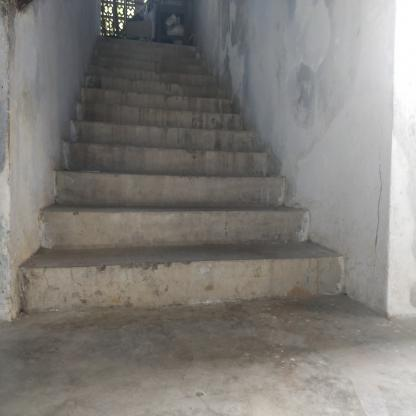stairs: (40, 150, 274, 318)
